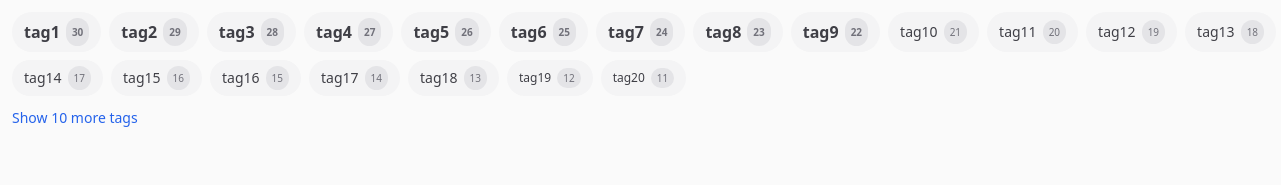
it: TagCloud › Pagination › shows 'Show less' button when expanded
Step 1. Click the button "Show 10 more tags" → coordinates (75, 118), box [12, 108, 138, 128]
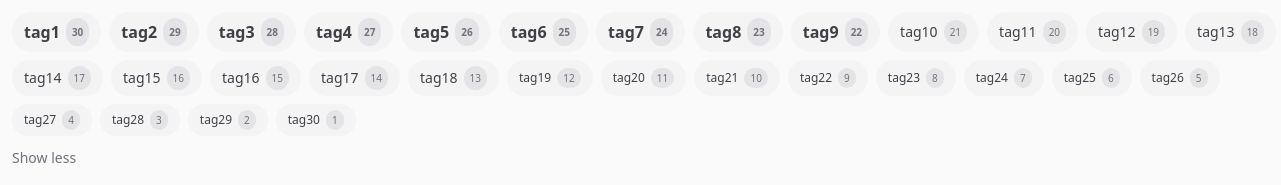
Expected: the button "Show less" is shown, [12, 148, 76, 168]
